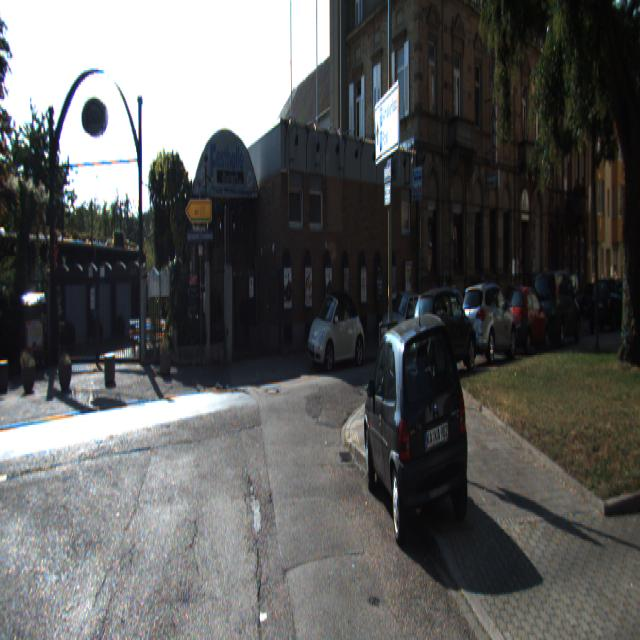Car: (363, 308, 472, 536), (409, 278, 478, 380), (460, 279, 518, 366), (307, 289, 365, 373), (533, 266, 582, 346), (508, 283, 551, 353)
DontCare: (585, 249, 626, 338)
